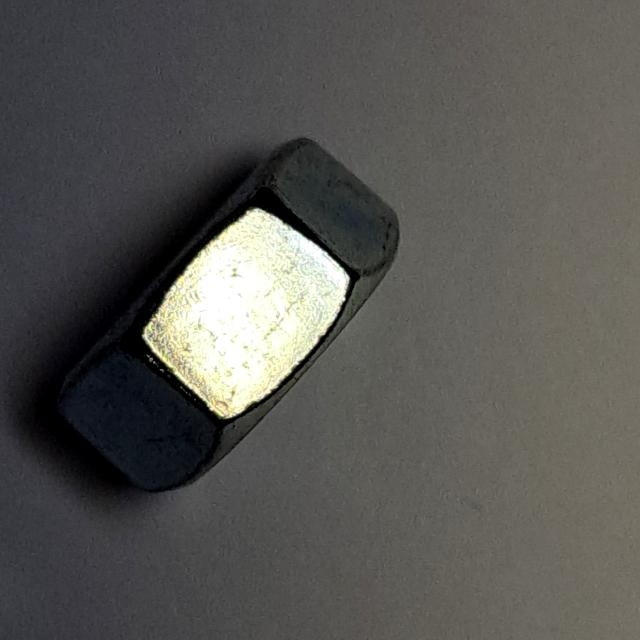Side_Excellent: (36, 124, 422, 503)
